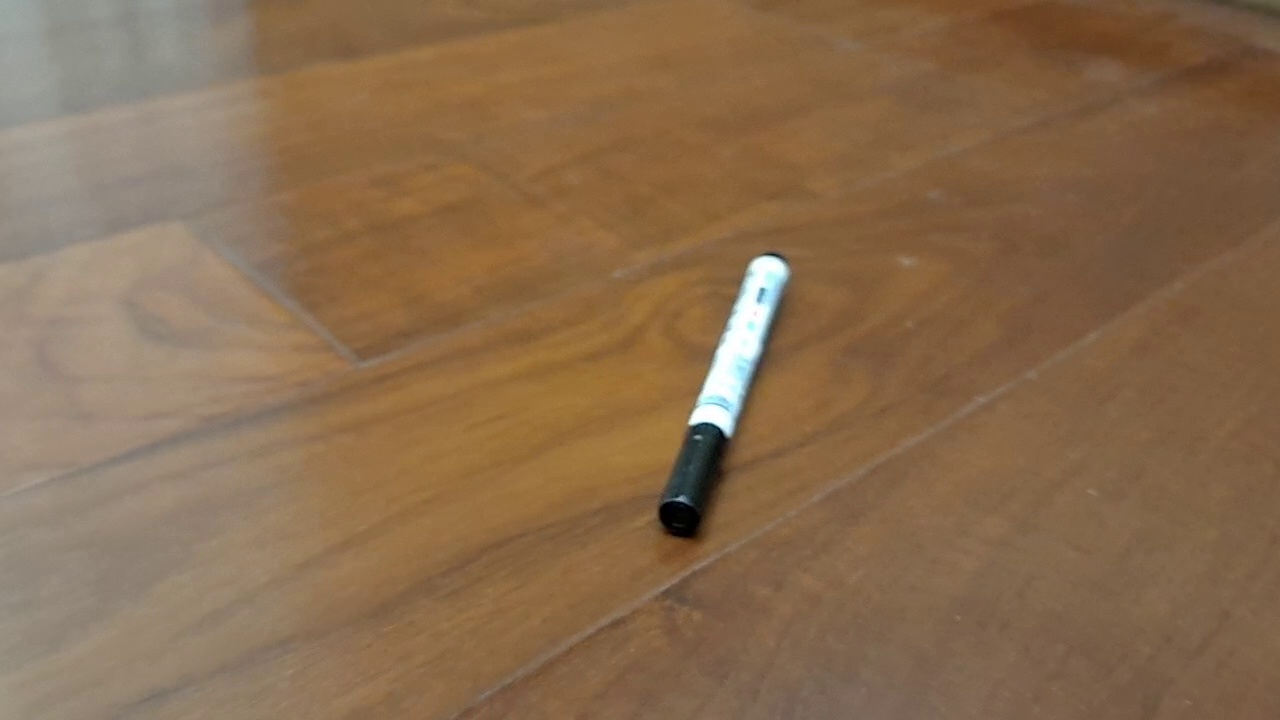pen: (658, 251, 793, 538)
